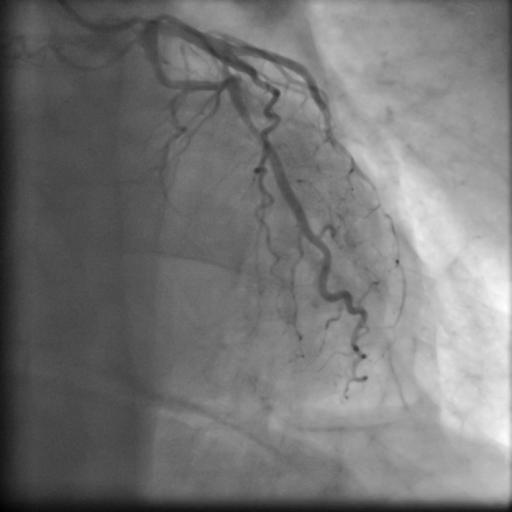Stenosis: (224, 73, 243, 96)
